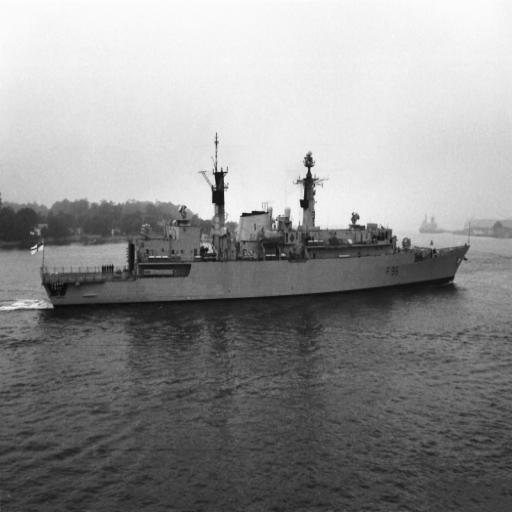Fragata: (41, 129, 473, 315)
